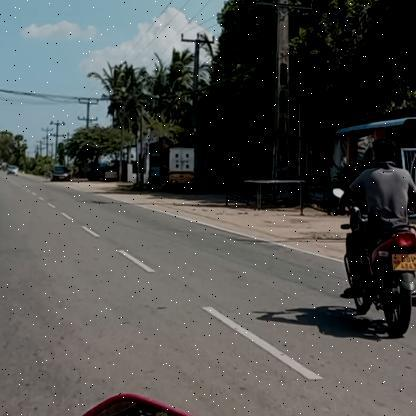motorcycle: (323, 183, 416, 337)
